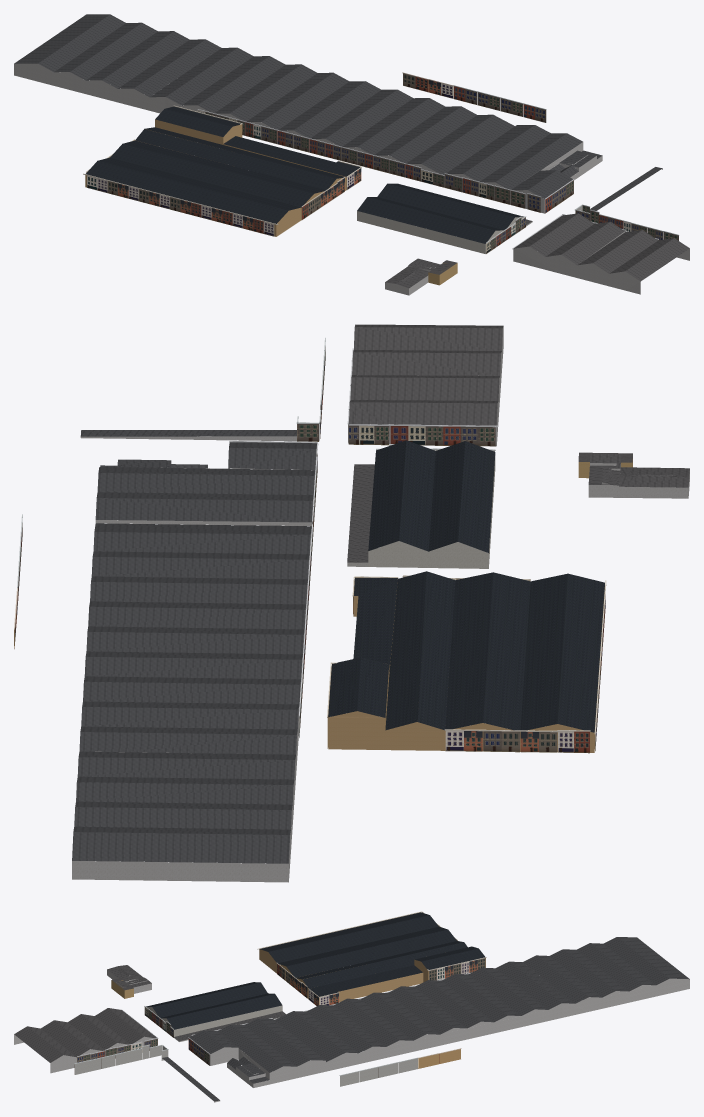
The picture shows the model from 3 angles, top to bottom: view 1: azimuth 30°, elevation 25°; view 2: azimuth 150°, elevation 25°; view 3: azimuth 270°, elevation 25°; orthographic projection. The views are drawn at different scales.
Parts seen in each view (by area): view 1: bldg_6004321750_roof, bldg_6004581096_roof, bldg_6006376234_roof, bldg_6004581097_roof, bldg_6004321750, bldg_6004581096_facade6, bldg_6006376234, bldg_6004581096, bldg_6004581097, bldg_6004321758_roof, bldg_6000324933_roof; view 2: bldg_6004321750_roof, bldg_6004581096_roof, bldg_6006376234_roof, bldg_6004581097_roof, bldg_6004321750, bldg_6004581096, bldg_6004581097, bldg_6004321758_roof, bldg_6006376234_facade2, bldg_6000476576_roof, bldg_6000324933_roof, bldg_6004321758 (+3 smaller); view 3: bldg_6004321750_roof, bldg_6004581096_roof, bldg_6004321750, bldg_6006376234_roof, bldg_6004581097_roof, bldg_6004581096, bldg_6004581097, bldg_6004581096_facade11, bldg_6006376234, bldg_6004321758_roof, bldg_6000476576_roof, bldg_6000324933_roof.
Part boxes in pixels (x1=…): bldg_6004321750_roof: x1=14, y1=14, x2=602, y2=198; bldg_6004581096_roof: x1=86, y1=106, x2=359, y2=223; bldg_6006376234_roof: x1=514, y1=213, x2=689, y2=281; bldg_6004581097_roof: x1=357, y1=183, x2=524, y2=243; bldg_6004321750: x1=14, y1=63, x2=602, y2=213; bldg_6004581096_facade6: x1=83, y1=173, x2=278, y2=236; bldg_6006376234: x1=513, y1=231, x2=689, y2=294; bldg_6004581096: x1=85, y1=119, x2=346, y2=236; bldg_6004581097: x1=357, y1=211, x2=523, y2=253; bldg_6004321758_roof: x1=385, y1=258, x2=451, y2=288; bldg_6000324933_roof: x1=590, y1=167, x2=662, y2=212; bldg_6004321750_roof: x1=72, y1=442, x2=316, y2=863; bldg_6004581096_roof: x1=328, y1=571, x2=604, y2=732; bldg_6006376234_roof: x1=349, y1=324, x2=503, y2=425; bldg_6004581097_roof: x1=368, y1=440, x2=495, y2=552; bldg_6004321750: x1=72, y1=446, x2=316, y2=882; bldg_6004581096: x1=328, y1=579, x2=604, y2=752; bldg_6004581097: x1=368, y1=456, x2=495, y2=568; bldg_6004321758_roof: x1=588, y1=453, x2=689, y2=487; bldg_6006376234_facade2: x1=388, y1=424, x2=497, y2=446; bldg_6000476576_roof: x1=347, y1=464, x2=374, y2=562; bldg_6000324933_roof: x1=80, y1=430, x2=296, y2=436; bldg_6004321758: x1=588, y1=463, x2=689, y2=498; bldg_6004321750_roof: x1=189, y1=937, x2=689, y2=1083; bldg_6004581096_roof: x1=259, y1=912, x2=485, y2=996; bldg_6004321750: x1=210, y1=978, x2=689, y2=1087; bldg_6006376234_roof: x1=14, y1=1008, x2=156, y2=1062; bldg_6004581097_roof: x1=146, y1=982, x2=281, y2=1029; bldg_6004581096: x1=259, y1=949, x2=485, y2=1004; bldg_6004581097: x1=147, y1=1005, x2=282, y2=1036; bldg_6004581096_facade11: x1=427, y1=957, x2=486, y2=980; bldg_6006376234: x1=14, y1=1026, x2=154, y2=1073; bldg_6004321758_roof: x1=107, y1=965, x2=151, y2=987; bldg_6000476576_roof: x1=174, y1=1011, x2=285, y2=1041; bldg_6000324933_roof: x1=162, y1=1057, x2=219, y2=1101.
Bounding box in the file's own units: 277 × 14.29 × 439.
21 materials, 11 textured.
